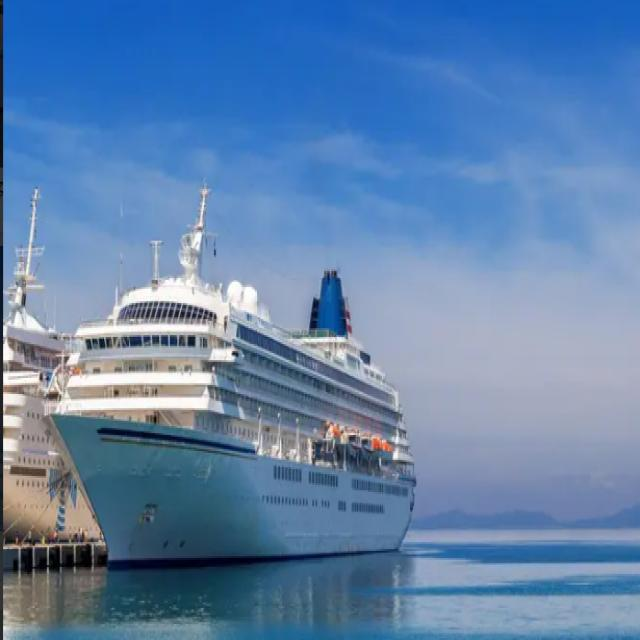passenger ship: (57, 188, 423, 567)
